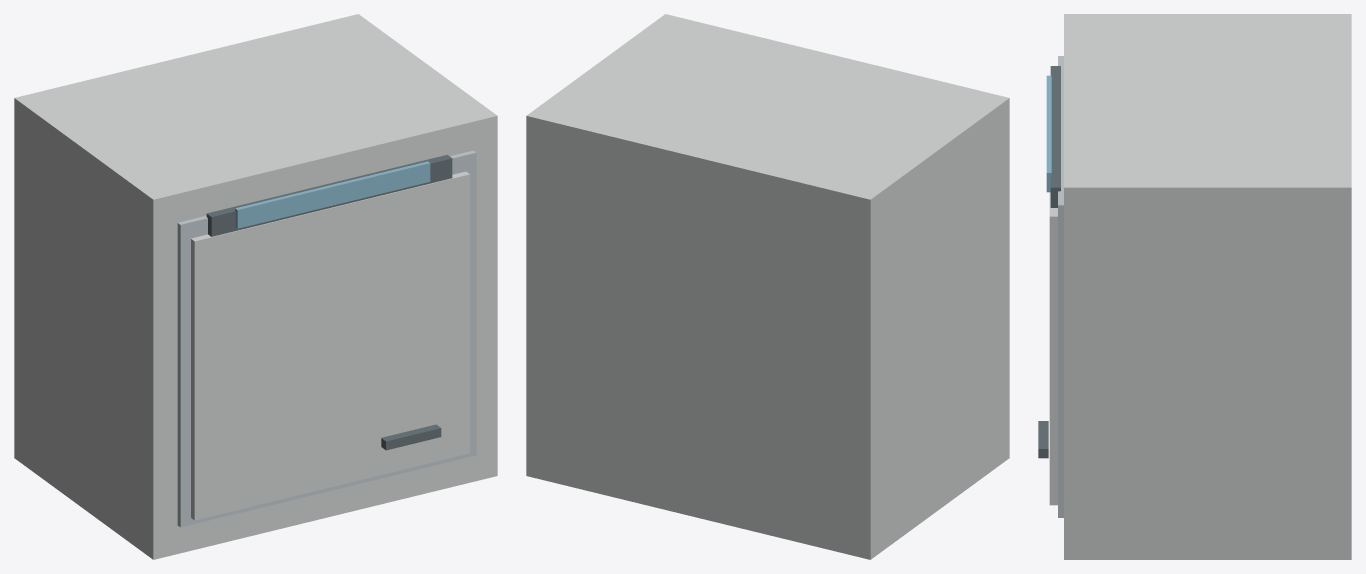
The model's file is dishwasher.glb.
The picture shows the model from 3 angles, left to right: view 1: azimuth 30°, elevation 25°; view 2: azimuth 150°, elevation 25°; view 3: azimuth 270°, elevation 25°; orthographic projection. The views are drawn at different scales.
Bounding box in the file's own units: 1 × 1 × 0.7625.
